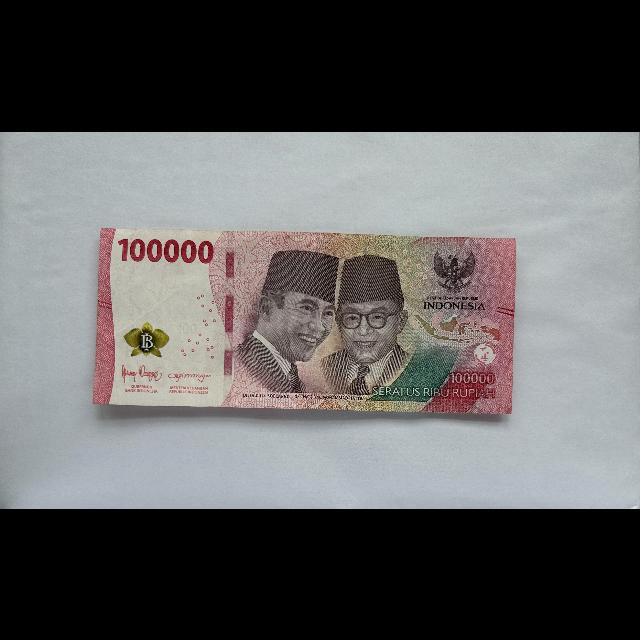Asli-100k: (92, 226, 519, 414)
Tinta-Asli-100k: (124, 321, 171, 358)
